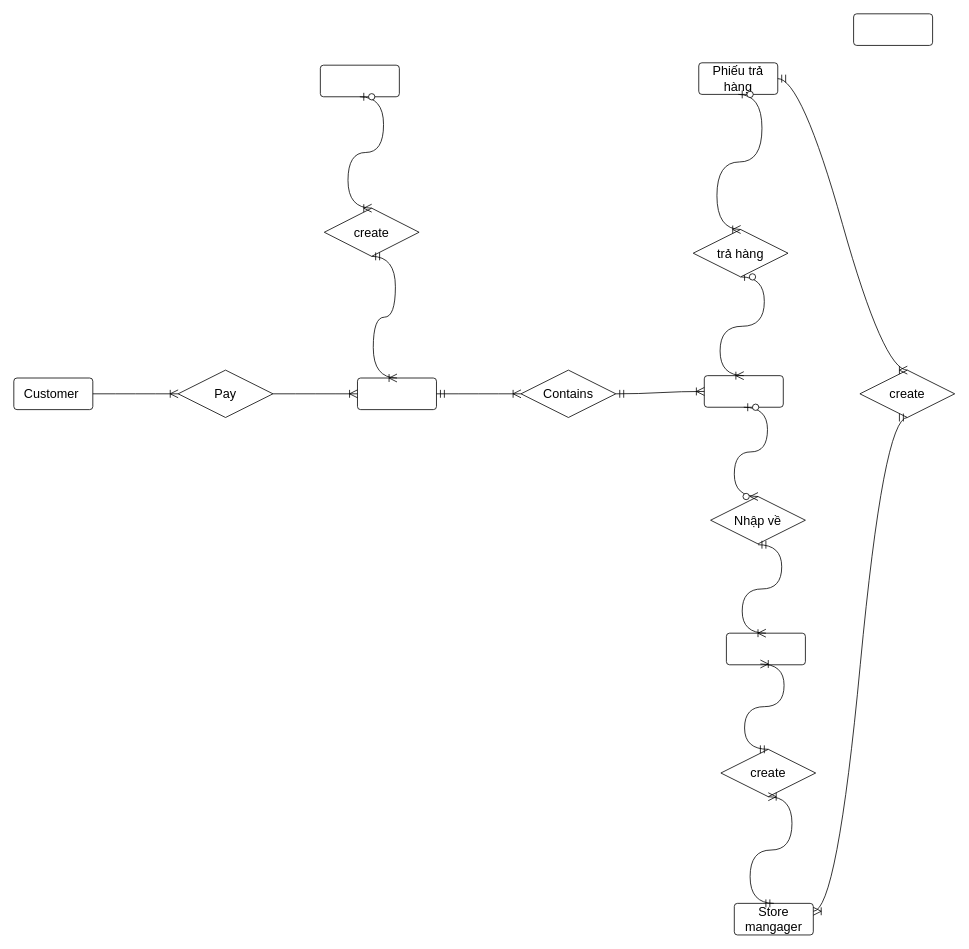
The diagram is 969 pixels wide and 949 high, and some of its shapes have lost their labels. Each missing label, with the centre of its shape:
Entity: (x=893, y=29)
Goods: (x=743, y=391)
Invoide: (x=396, y=393)
Phiếu nhập hàng: (x=765, y=648)
Salesman: (x=359, y=80)
